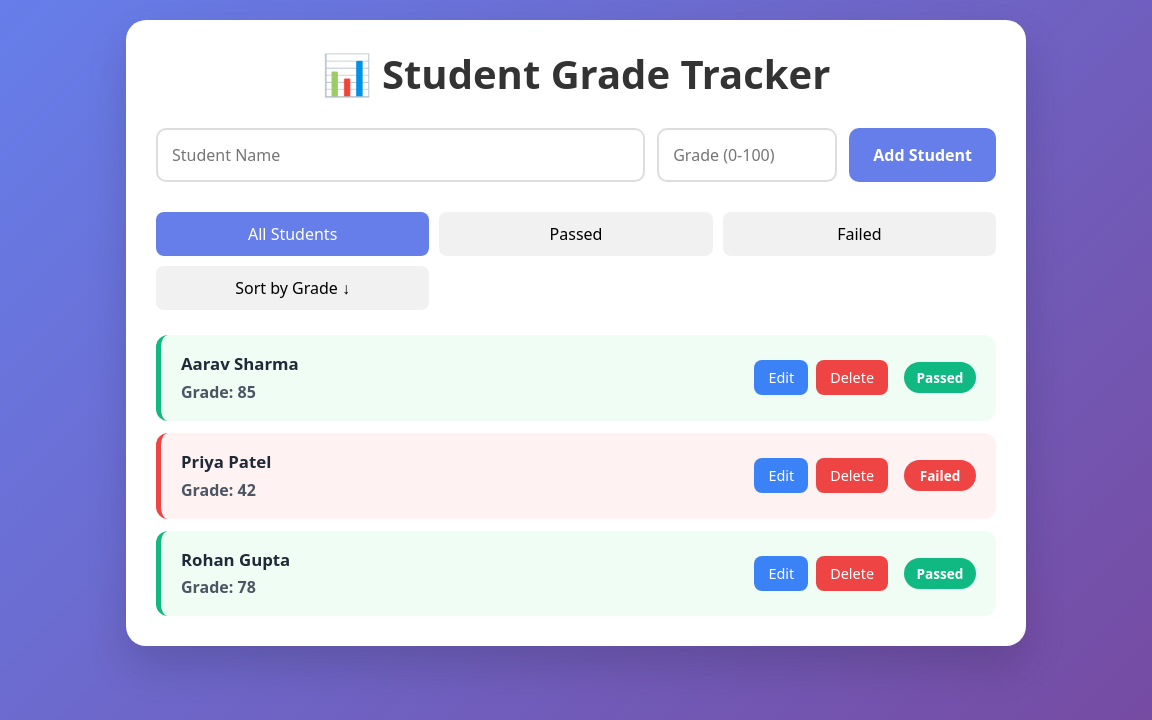
Test: Student Grade Tracker › adds a valid student
The image size is (1152, 720).
Type "Rahul Kumar" into the field labelled "Student Name" at [401, 155], box [156, 128, 645, 182]
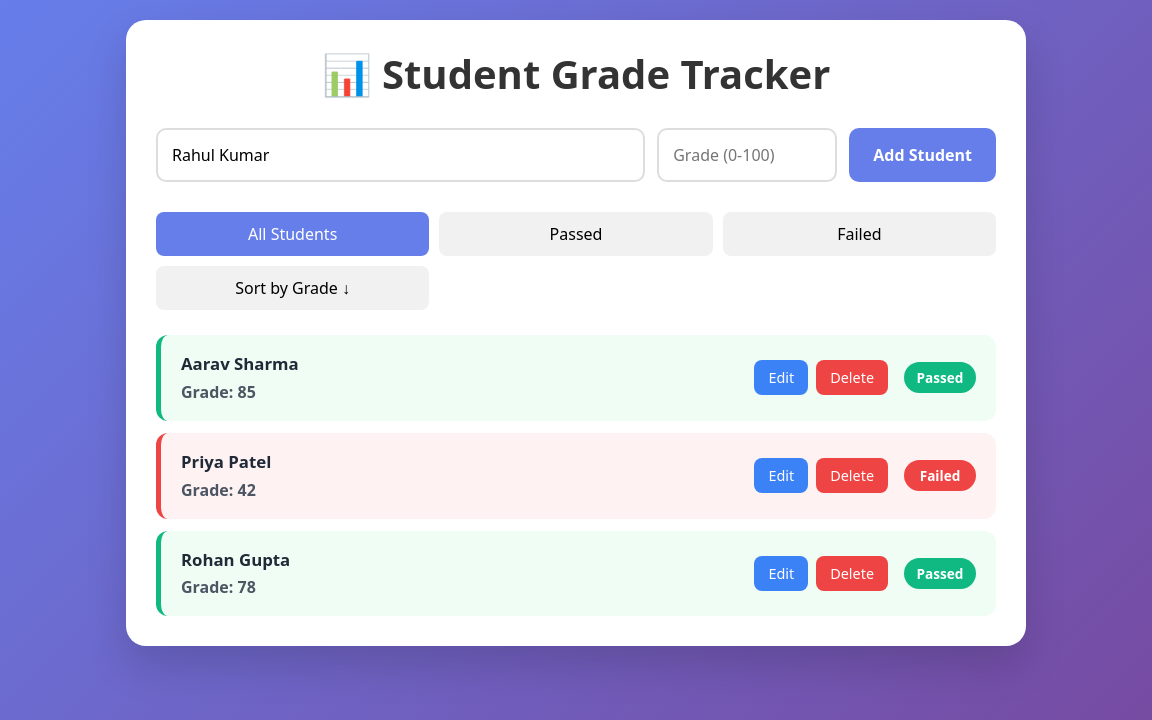
Type "90" into the number field labelled "Grade" at [747, 155], box [657, 128, 837, 182]
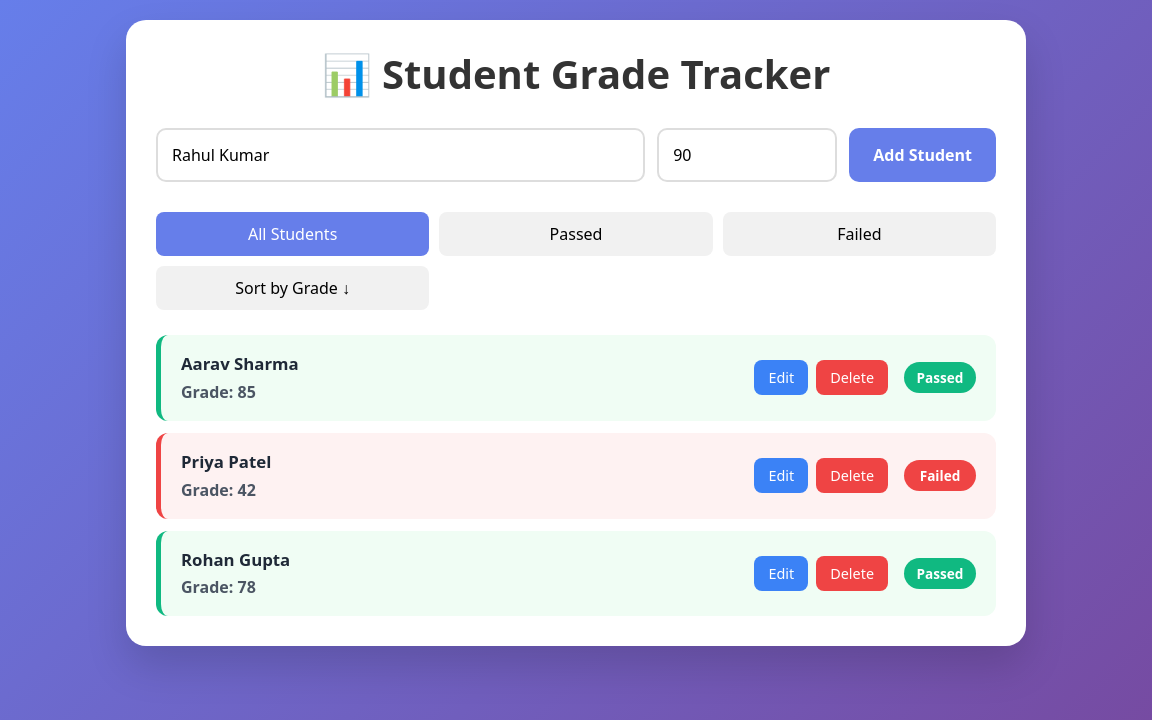
Click the button "Add Student" at [923, 155], box [849, 128, 996, 182]
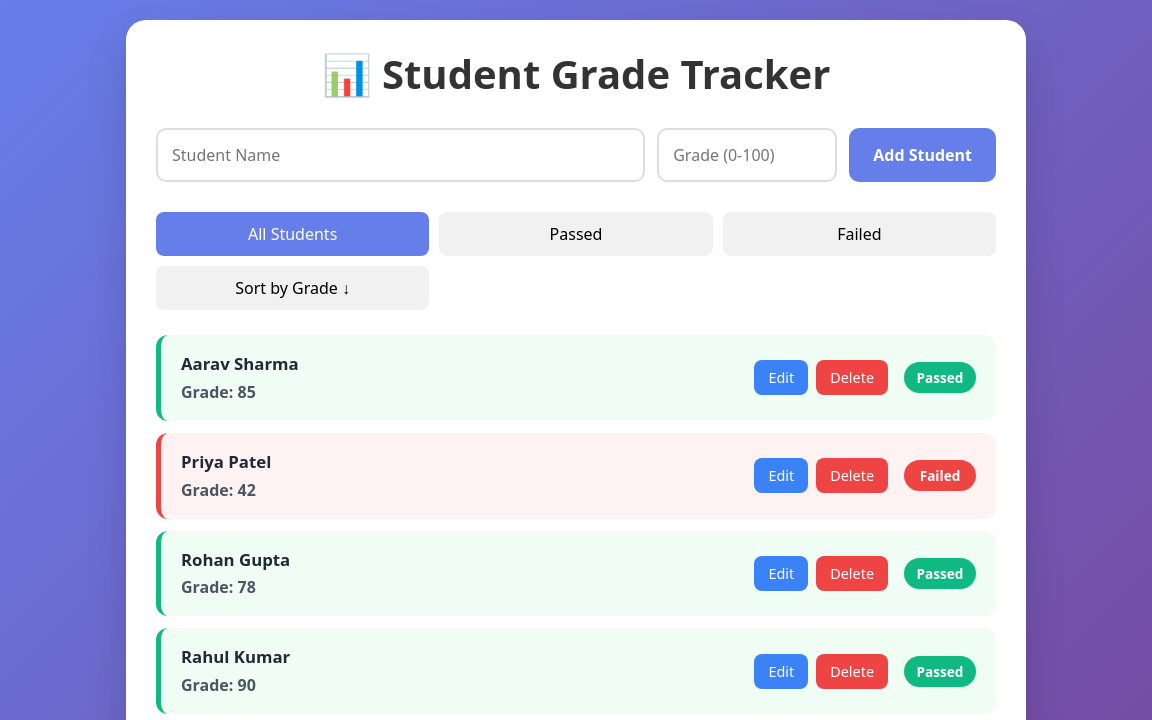
Result: the heading "Rahul Kumar" is shown at [181, 646, 290, 668]
Result: the text "Grade: 90" is shown at [181, 674, 256, 696]
